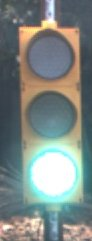Green: (12, 16, 92, 225)
